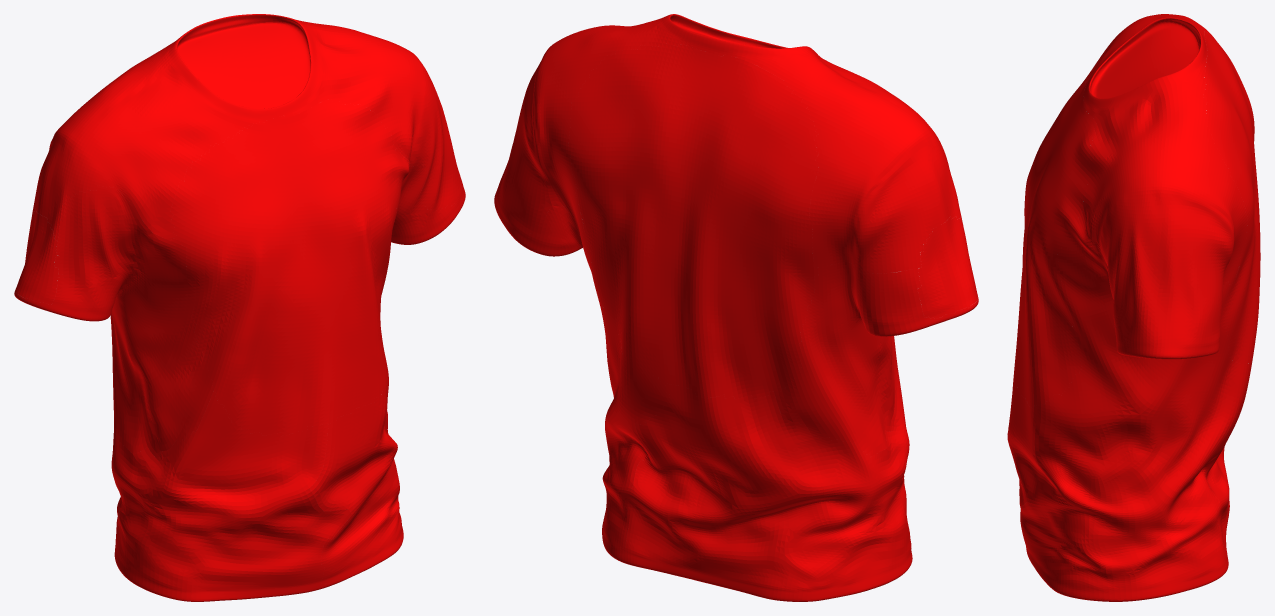
Rendered from remera.glb.
3 views of the same model, side by side, from view 1: azimuth 30°, elevation 25°; view 2: azimuth 150°, elevation 25°; view 3: azimuth 270°, elevation 25° (orthographic). The views are drawn at different scales.
Visible parts, largest first — view 1: Mesh_Mesh, Mesh1.0_ext_Mesh1.0_ext, Mesh1_ext_Mesh1_ext; view 2: Mesh_Mesh, Mesh_ext_Mesh_ext, Mesh1_ext_Mesh1_ext; view 3: Mesh_Mesh, Mesh1.0_ext_Mesh1.0_ext, Mesh_ext_Mesh_ext.
Part boxes in pixels (left/top/right/bottom): Mesh_Mesh: left=14, top=14, right=465, bottom=601; Mesh1.0_ext_Mesh1.0_ext: left=170, top=99, right=400, bottom=436; Mesh1_ext_Mesh1_ext: left=15, top=209, right=63, bottom=304; Mesh_Mesh: left=494, top=14, right=978, bottom=601; Mesh_ext_Mesh_ext: left=568, top=43, right=819, bottom=399; Mesh1_ext_Mesh1_ext: left=917, top=216, right=977, bottom=319; Mesh_Mesh: left=1007, top=14, right=1252, bottom=601; Mesh1.0_ext_Mesh1.0_ext: left=1013, top=78, right=1097, bottom=408; Mesh_ext_Mesh_ext: left=1203, top=31, right=1260, bottom=363.
Size of the model in its own units: 1.73 by 1.9 by 0.8604.
4 materials, 4 textured.
